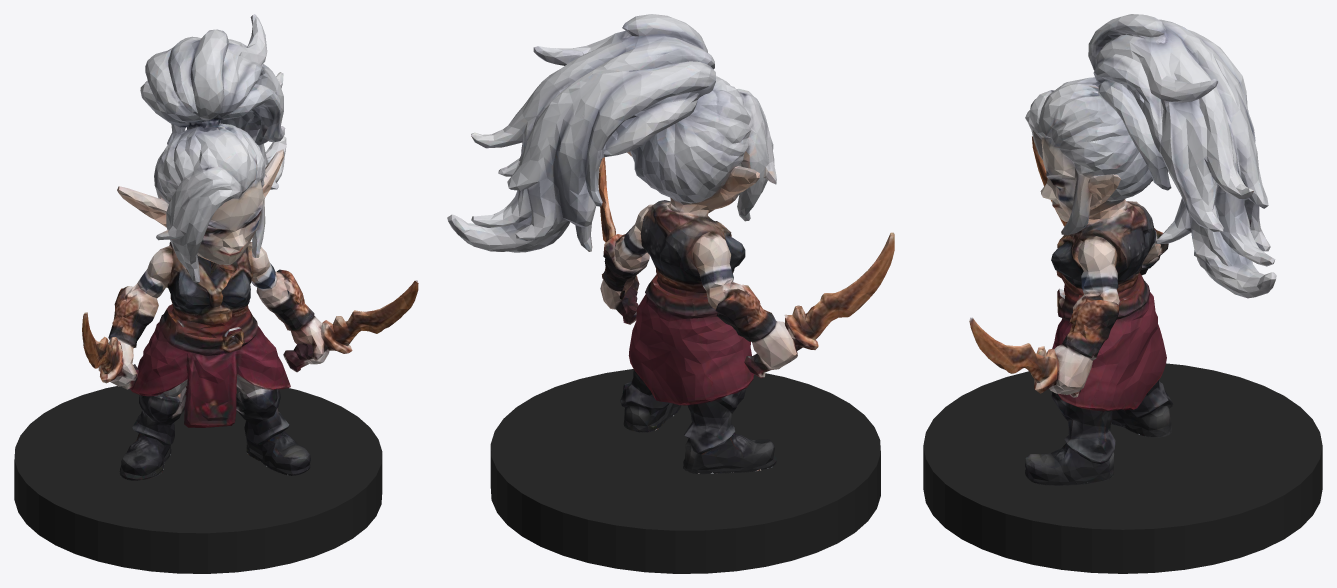
The model's file is dok-witch-aelf.glb.
3 renders of one model, left to right at view 1: azimuth 30°, elevation 25°; view 2: azimuth 150°, elevation 25°; view 3: azimuth 270°, elevation 25°, orthographic. The views are drawn at different scales.
Parts seen in each view (by area): view 1: figure, base; view 2: figure, base; view 3: figure, base.
Boxes of the visible parts, x1,y1,x2,y2 form: figure: (82,14,418,480); base: (14,386,382,573); figure: (447,14,894,474); base: (490,369,880,573); figure: (969,14,1276,485); base: (923,363,1322,573).
Size of the model in its own units: 0.9843 by 1.32 by 0.9843.
2 materials, 1 textured.
